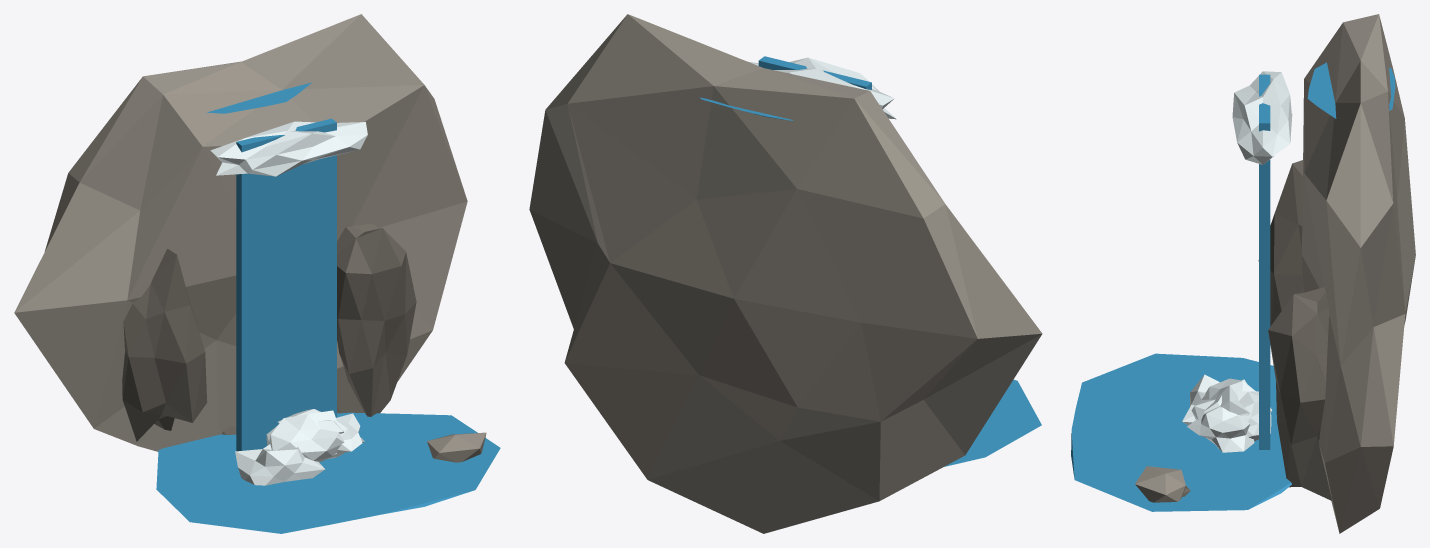
The model's file is HS_LP_Water_Waterfall_01.fbx.
The picture shows the model from 3 angles, left to right: view 1: azimuth 30°, elevation 25°; view 2: azimuth 150°, elevation 25°; view 3: azimuth 270°, elevation 25°; orthographic projection. The views are drawn at different scales.
Visible parts, largest first — view 1: HS_LP_Water_Waterfall_01; view 2: HS_LP_Water_Waterfall_01; view 3: HS_LP_Water_Waterfall_01.
Part boxes in pixels (x1,y1,x2,y2): HS_LP_Water_Waterfall_01: (14, 14, 500, 533); HS_LP_Water_Waterfall_01: (529, 14, 1042, 533); HS_LP_Water_Waterfall_01: (1071, 14, 1415, 533).
Size of the model in its own units: 343 by 312 by 215.
